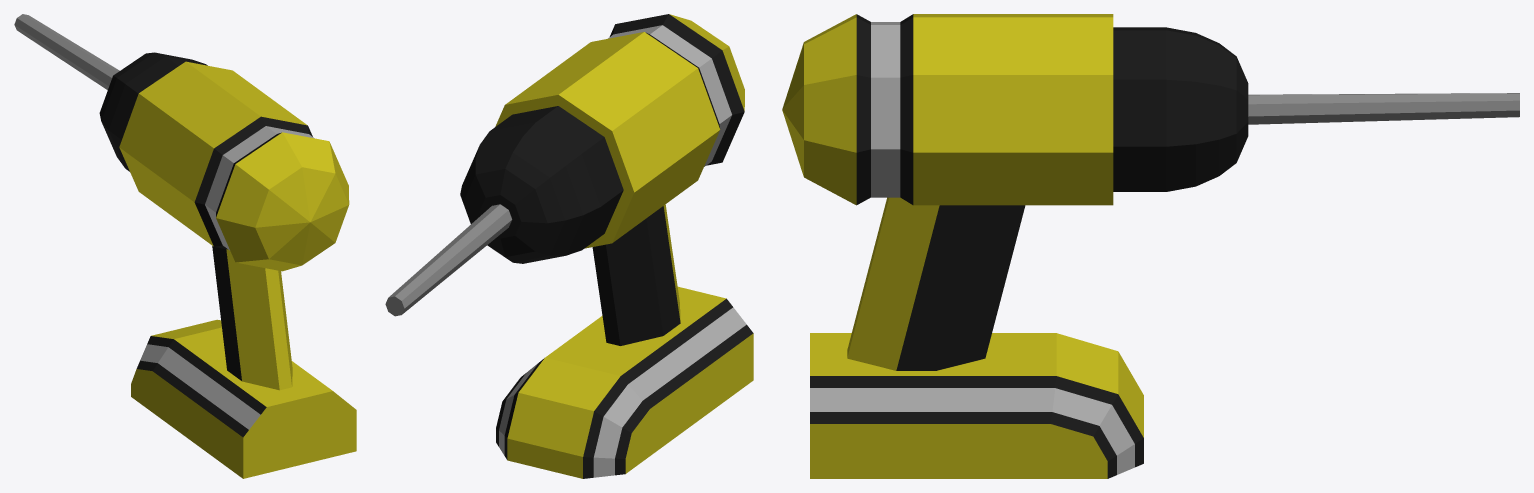
Rendered from m_drill.fbx.
The picture shows the model from 3 angles, left to right: view 1: azimuth 30°, elevation 25°; view 2: azimuth 150°, elevation 25°; view 3: azimuth 270°, elevation 25°; orthographic projection. The views are drawn at different scales.
Parts seen in each view (by area): view 1: Sphere, Cube, Cube.001; view 2: Sphere, Cube, Cube.001; view 3: Sphere, Cube, Cube.001.
Part boxes in pixels (box(x1,y1,x2,y2)): Sphere: box(14, 14, 349, 271); Cube: box(131, 319, 356, 478); Cube.001: box(212, 246, 292, 390); Sphere: box(385, 14, 744, 316); Cube: box(496, 286, 753, 478); Cube.001: box(592, 204, 680, 345); Sphere: box(782, 14, 1519, 205); Cube: box(810, 333, 1143, 478); Cube.001: box(847, 197, 1025, 370).
Size of the model in its own units: 34.78 by 80.02 by 126.
